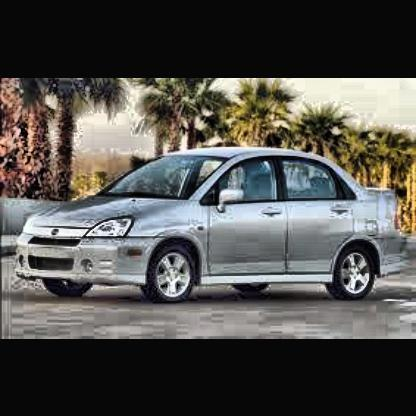Suzuki Aerio Sedan 2007: (17, 147, 397, 305)
